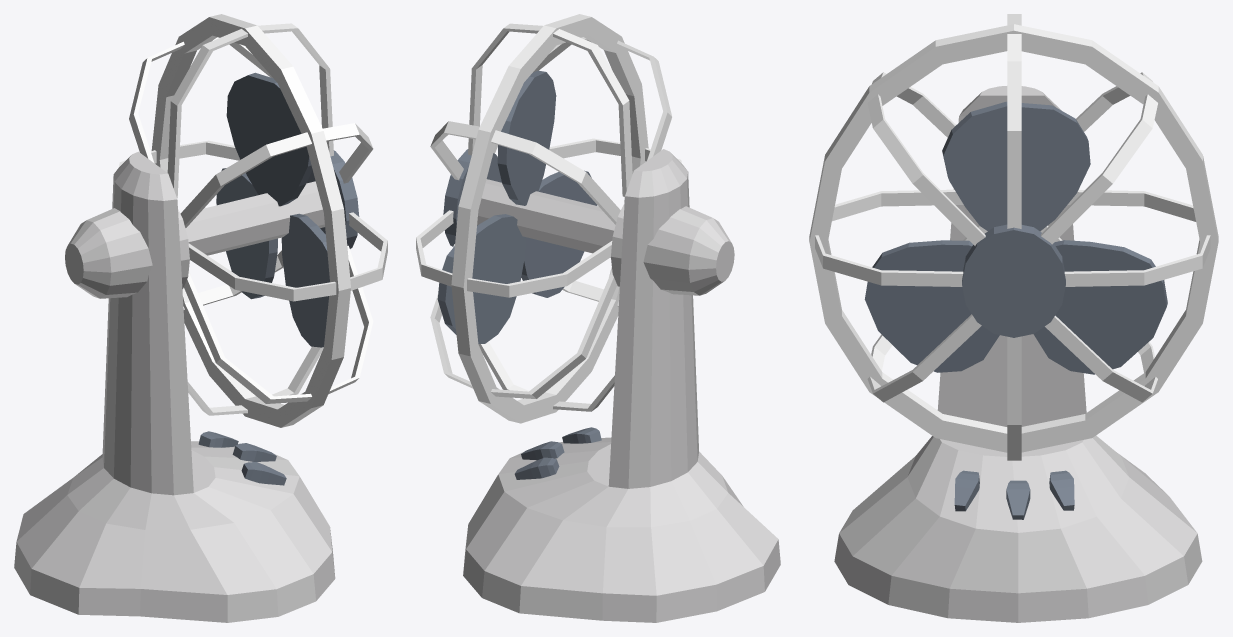
Rendered from SM_Fan_01.glb.
The picture shows the model from 3 angles, left to right: view 1: azimuth 30°, elevation 25°; view 2: azimuth 150°, elevation 25°; view 3: azimuth 270°, elevation 25°; orthographic projection. The views are drawn at different scales.
Visible parts, largest first — view 1: SM_Fan_01; view 2: SM_Fan_01; view 3: SM_Fan_01.
Boxes of the visible parts, x1,y1,x2,y2 form: SM_Fan_01: (14, 14, 387, 622); SM_Fan_01: (416, 14, 780, 622); SM_Fan_01: (809, 14, 1218, 622).
Bounding box in the file's own units: 0.3164 × 0.5147 × 0.3386.
Materials: 1 (1 with a texture image).
